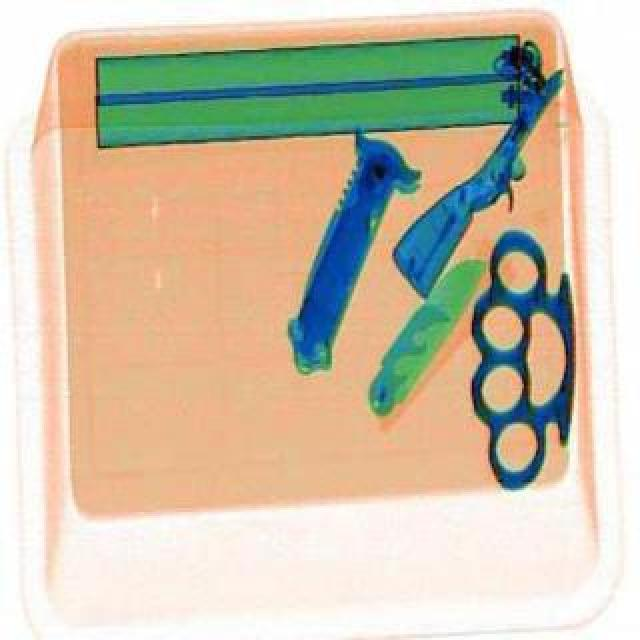knife: (278, 130, 412, 376), (468, 224, 584, 486), (356, 248, 496, 418)
